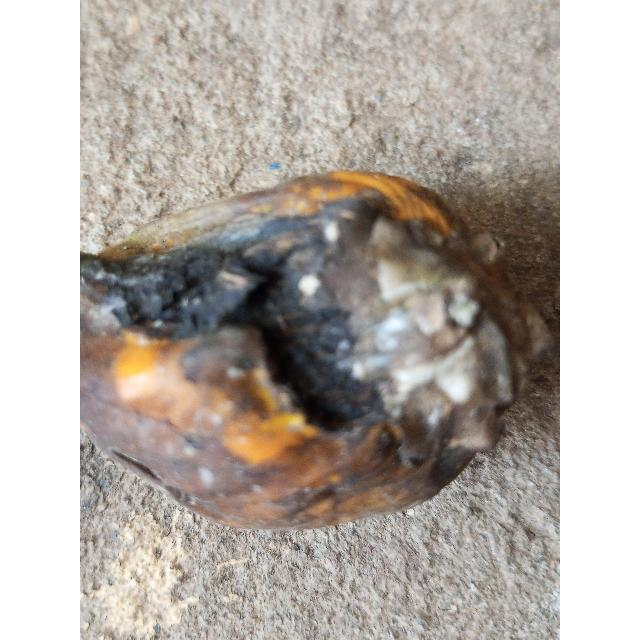damaged: (80, 172, 550, 529)
